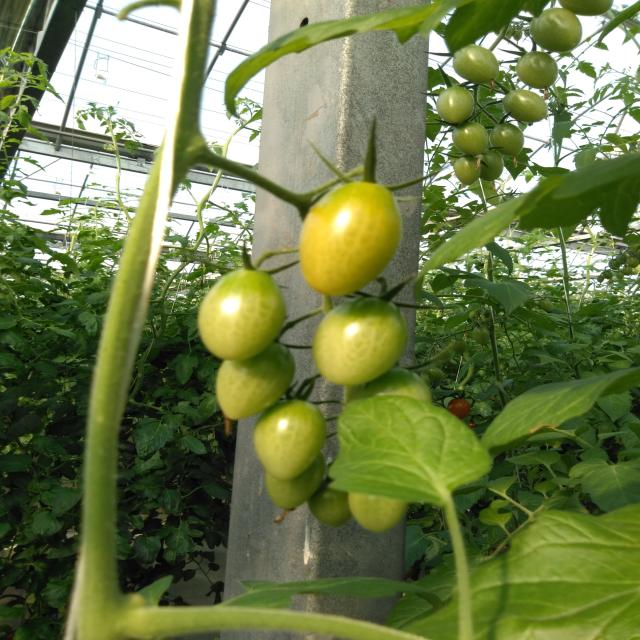yesil: (193, 277, 334, 517)
